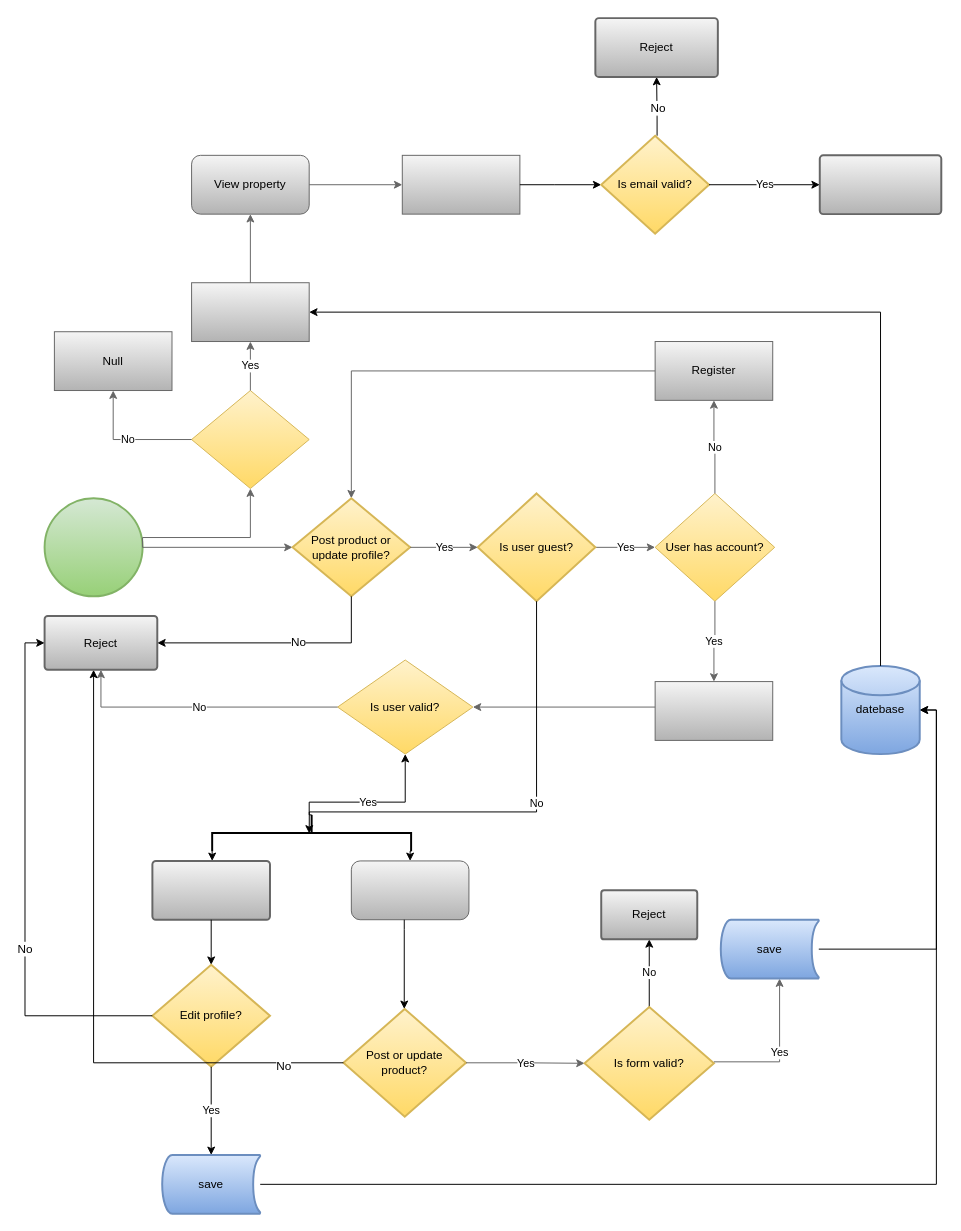
Some shapes in this 961 by 1231 pixel diagram are drawn without their labels. The centre of each missing label's shape, as x and y in pixels:
"Filter data" goes at (x=250, y=312).
"Filters property?" goes at (x=250, y=439).
"Login" goes at (x=713, y=710).
"make an enquiry" goes at (x=460, y=184).
"Manage product" goes at (x=409, y=890).
"Manage Profile" goes at (x=210, y=889).
"send email to admin" goes at (x=880, y=184).
"User Start" goes at (x=93, y=547).
